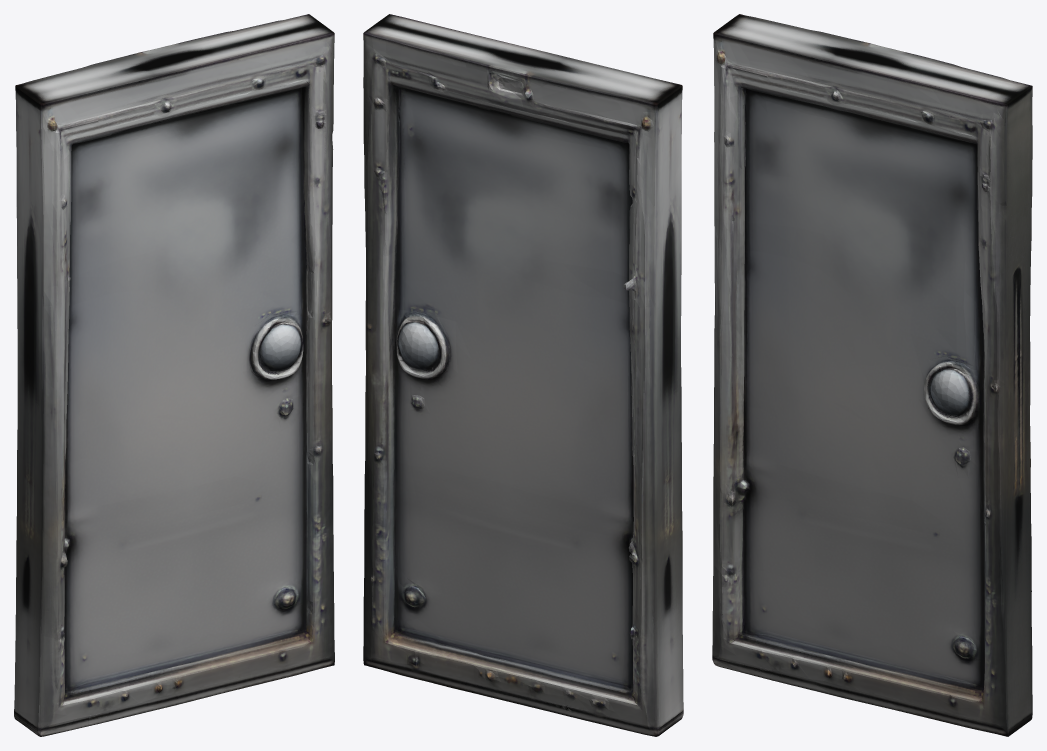
The model's file is metal_door_782698_20251230_114201_20251230_115429.glb.
The picture shows the model from 3 angles, left to right: view 1: azimuth 30°, elevation 25°; view 2: azimuth 150°, elevation 25°; view 3: azimuth 330°, elevation 25°; orthographic projection.
Visible parts, largest first — view 1: world; view 2: world; view 3: world.
Part boxes in pixels (box(x1,y1,x2,y2)): world: box(14, 14, 334, 736); world: box(363, 14, 683, 736); world: box(712, 14, 1032, 736).
Bounding box in the file's own units: 0.4901 × 1 × 0.1174.
1 material, 1 textured.
